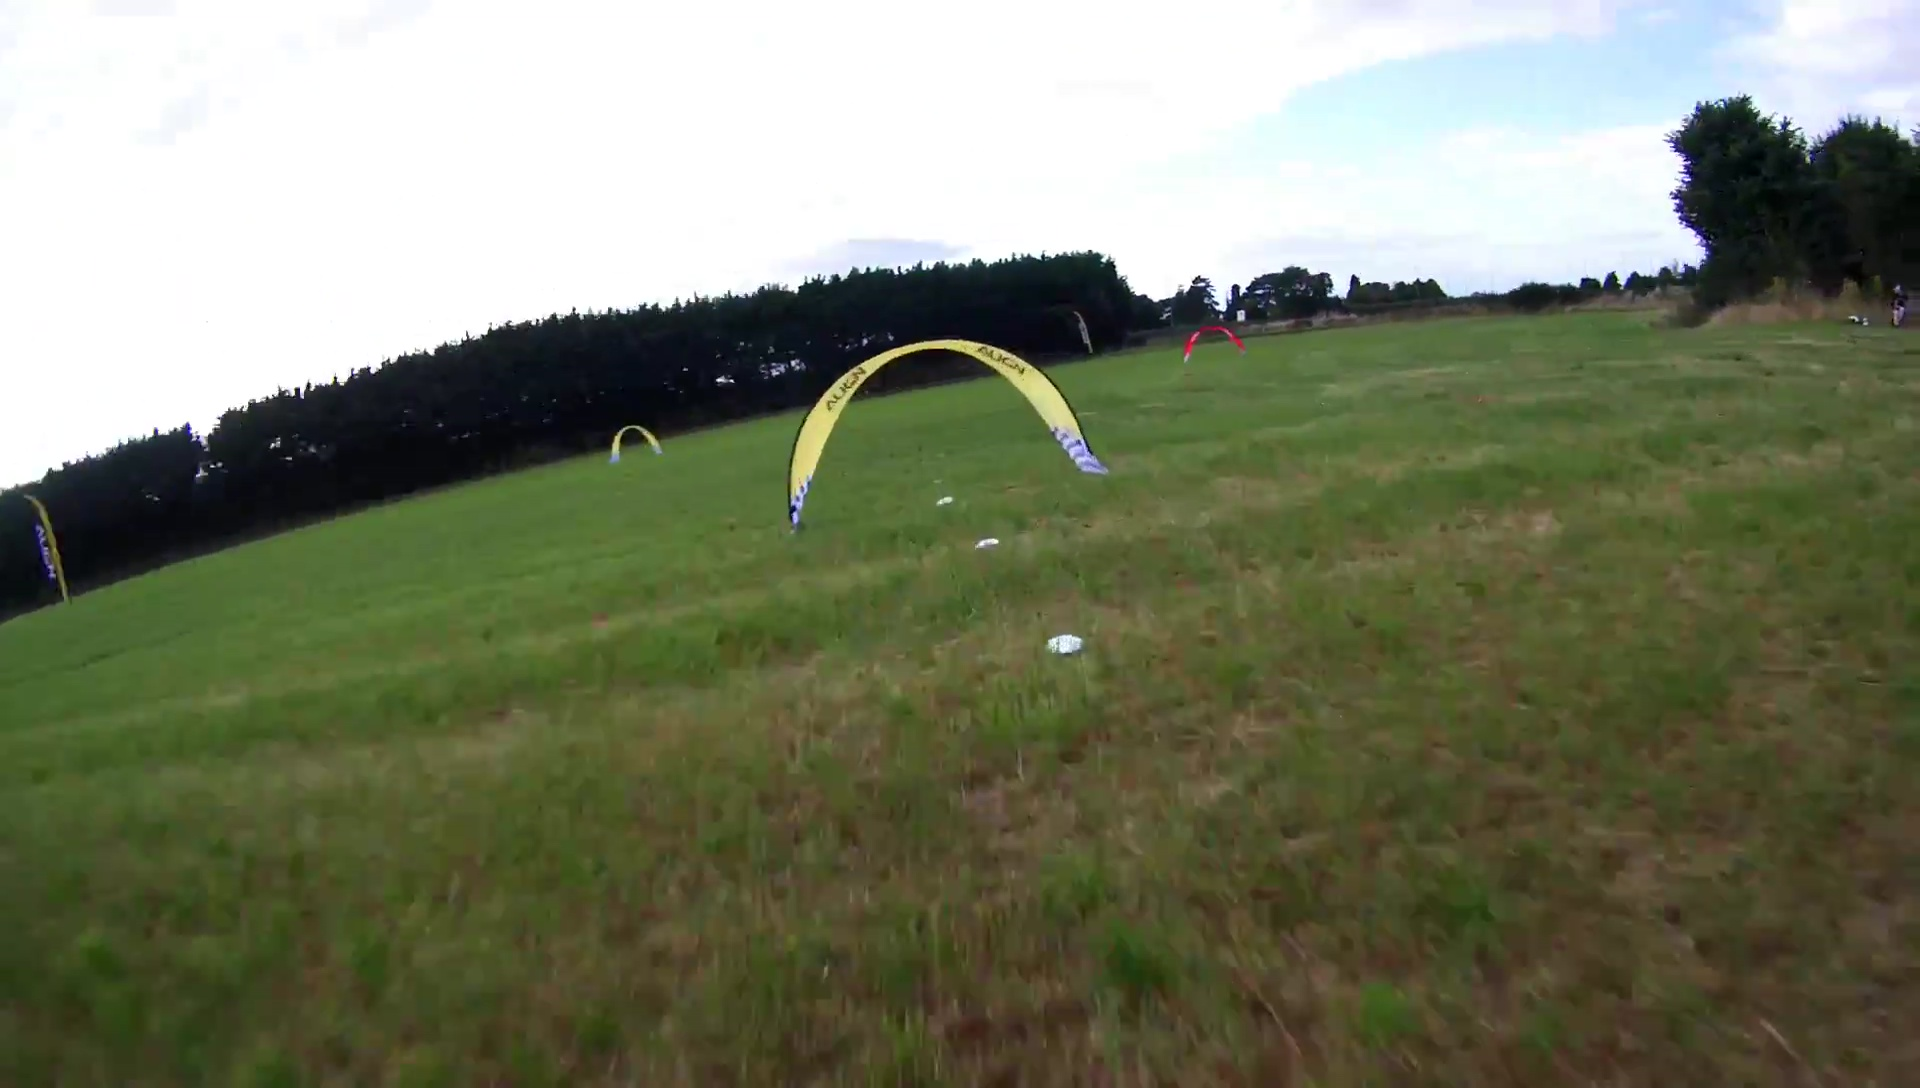gate: (782, 336, 1112, 539), (1179, 323, 1247, 367), (608, 423, 665, 466)
